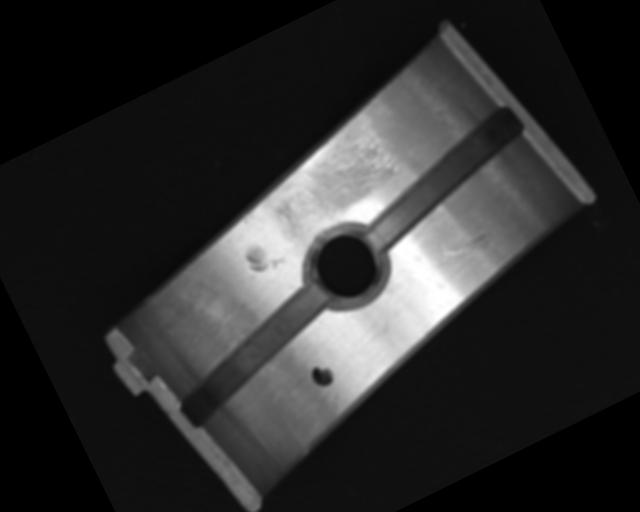blot: (308, 361, 337, 391)
bruise: (240, 234, 288, 279), (238, 206, 259, 226)
gap: (156, 279, 352, 432), (343, 104, 542, 253)
hole: (291, 209, 403, 323)
nick: (431, 227, 496, 271)
scratch: (250, 116, 411, 249)
